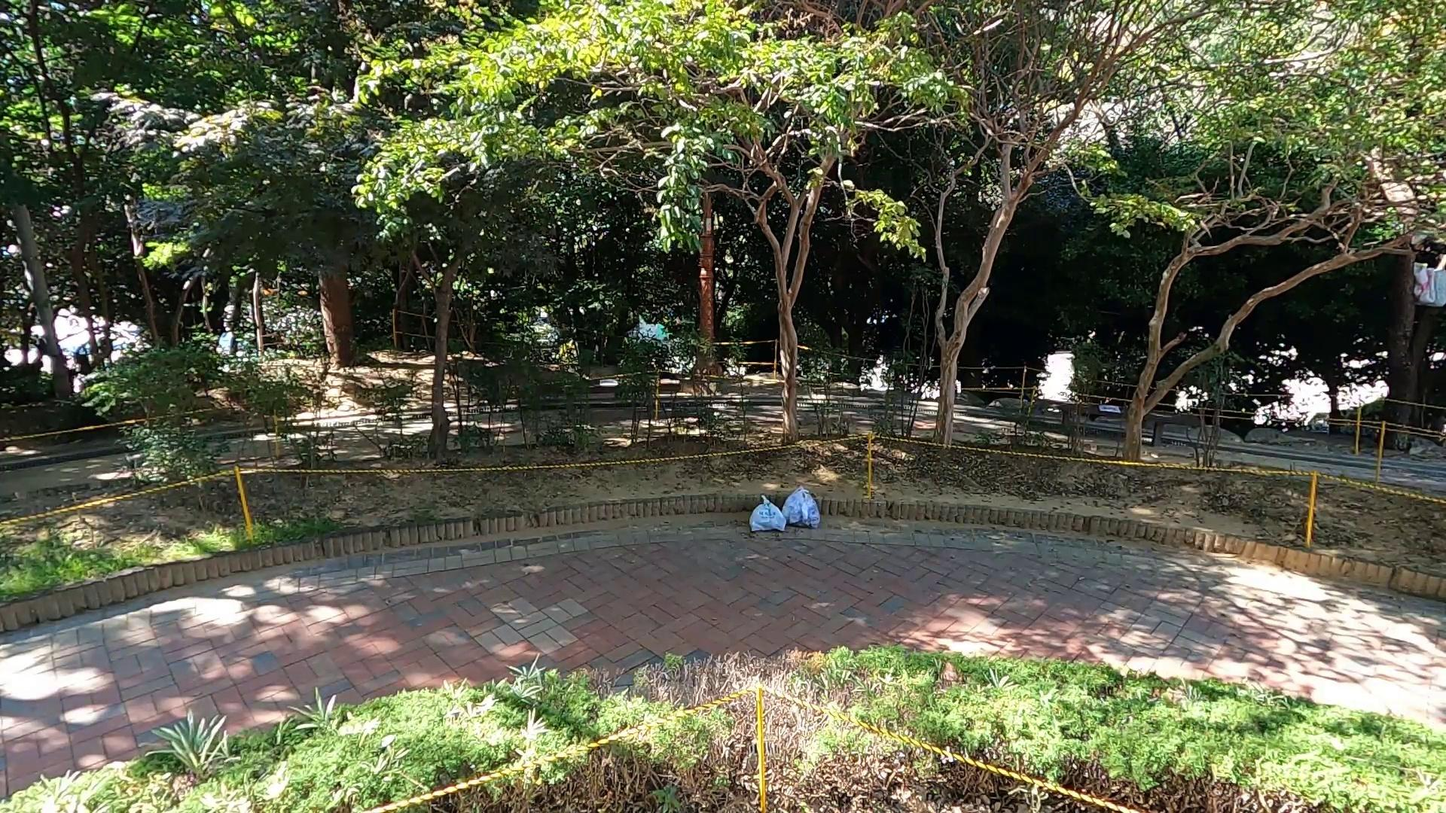trash: (781, 488, 823, 531), (750, 496, 788, 536)
